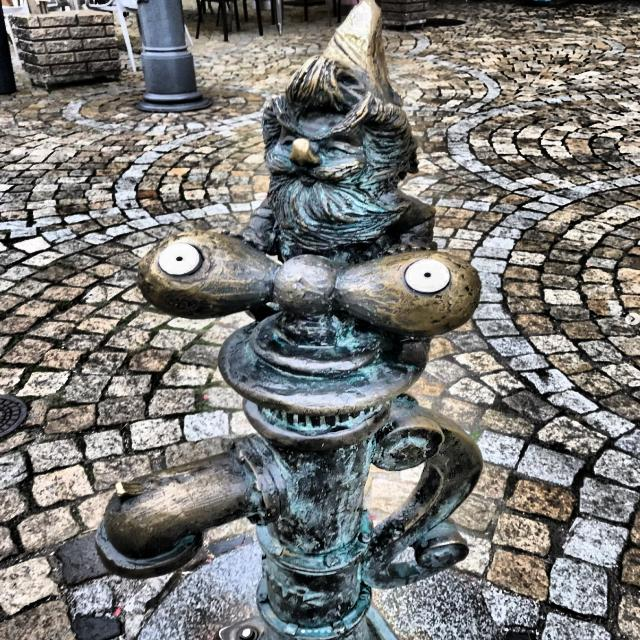Orzezwiacz: (94, 0, 482, 594)
